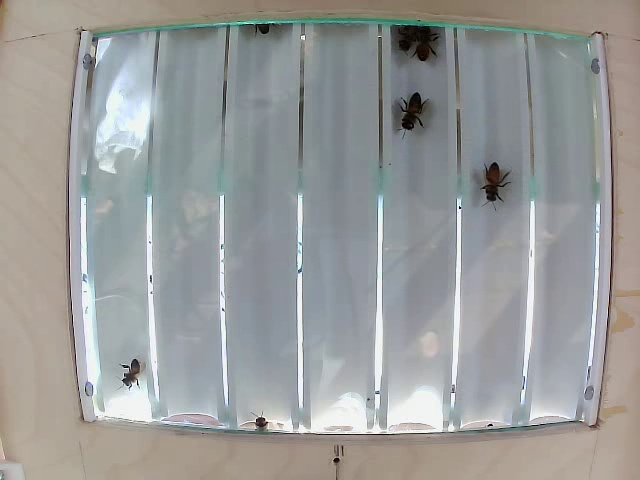bee: (381, 86, 436, 137), (477, 156, 508, 215), (111, 354, 146, 392)
